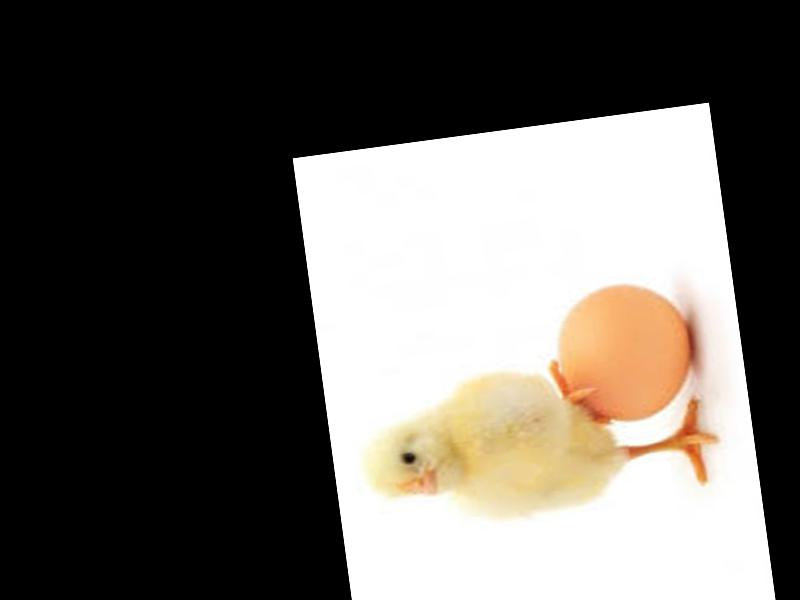Eggs: (544, 275, 699, 432)
